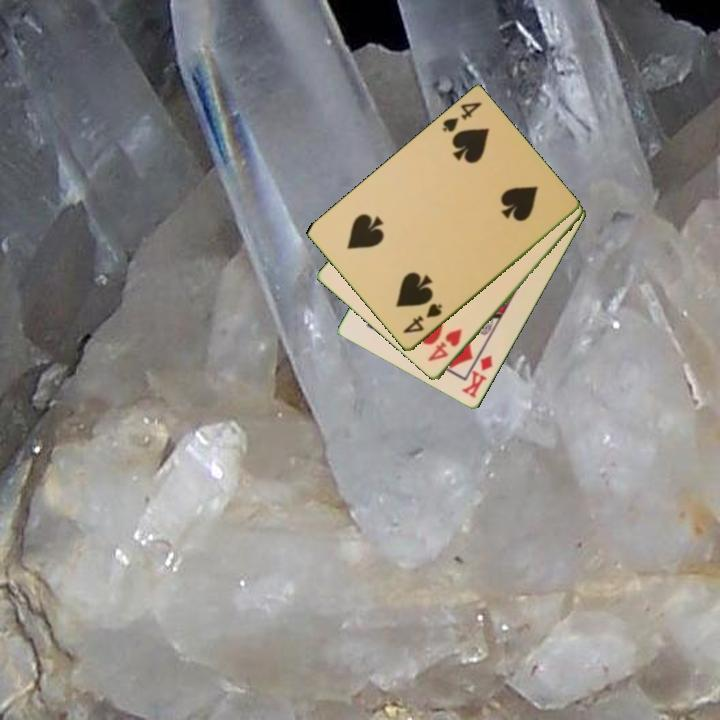4h: (424, 326, 465, 365)
4s: (399, 300, 445, 337), (439, 99, 485, 136)
Kd: (458, 351, 496, 401)
